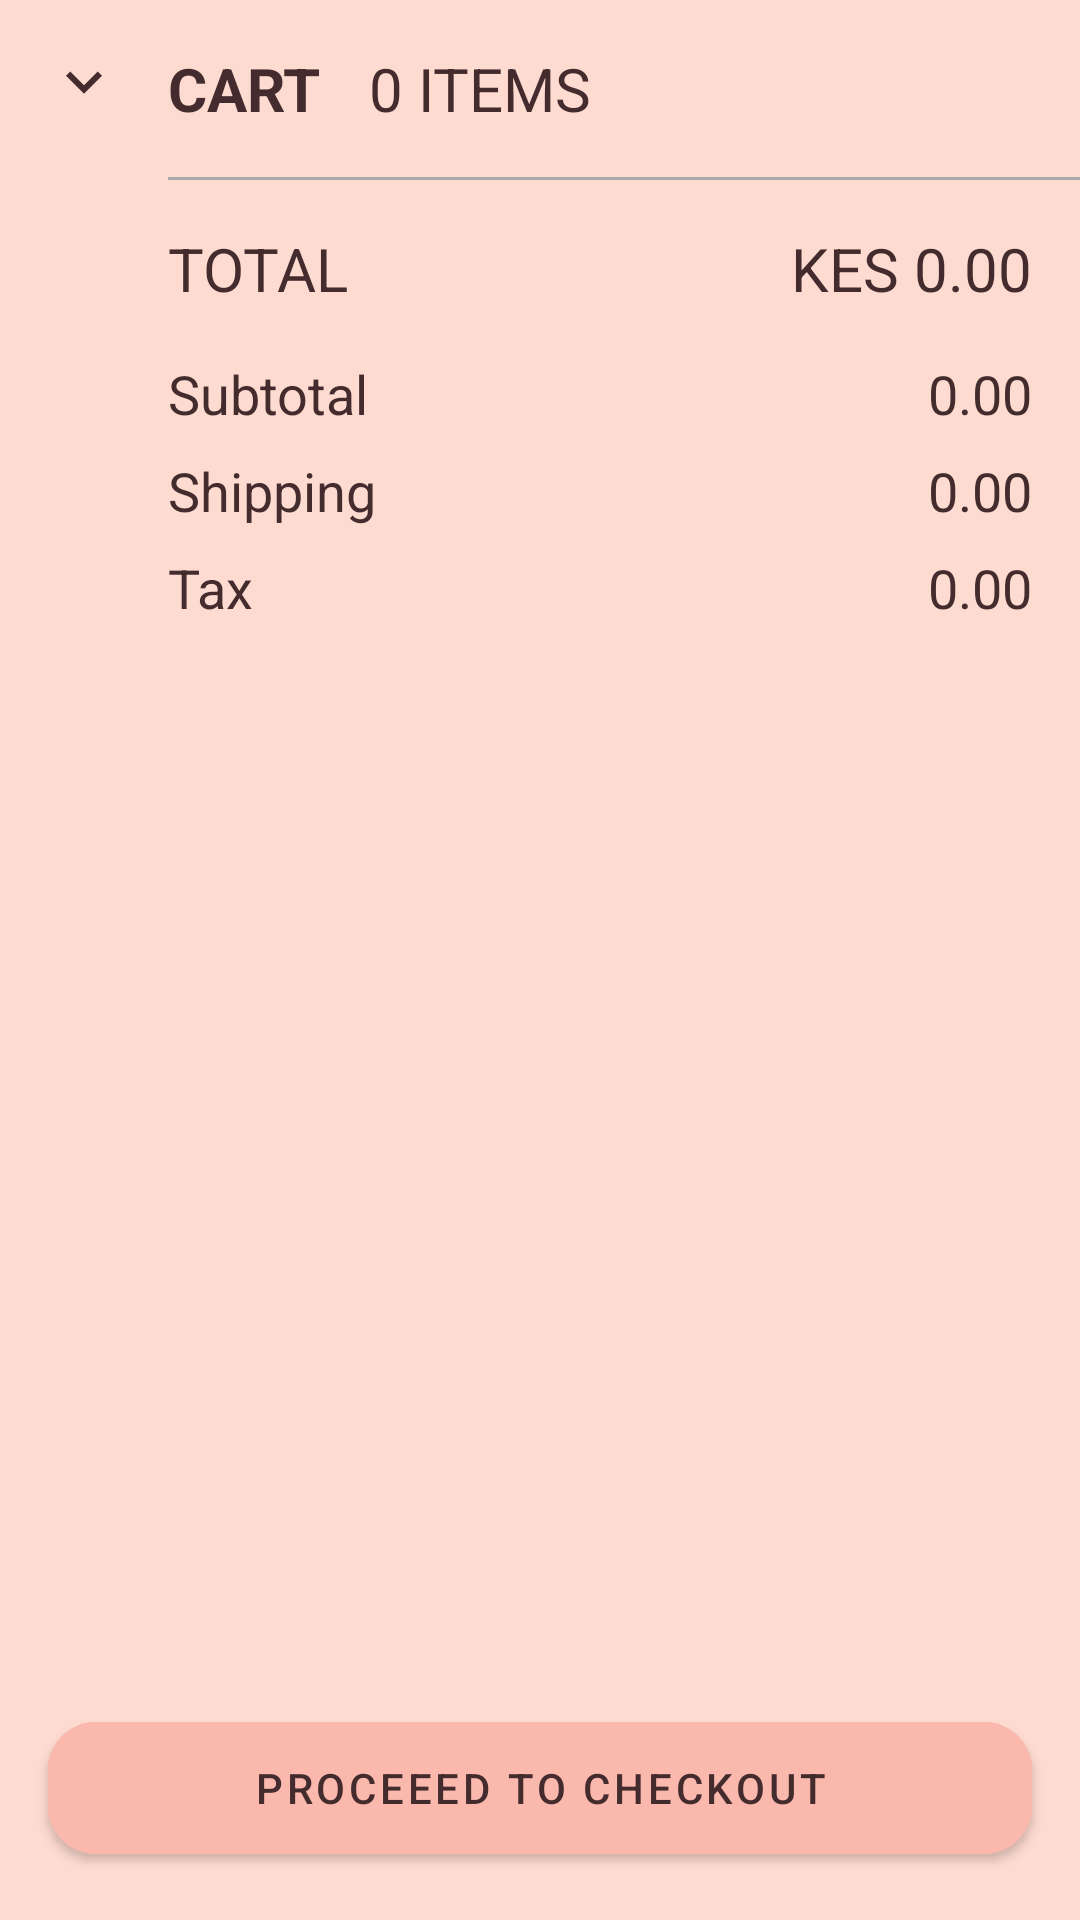

Point at icon controls on the screen. Image size 1080px×1920px, points as [x,y].
arrow down: [84,82]
